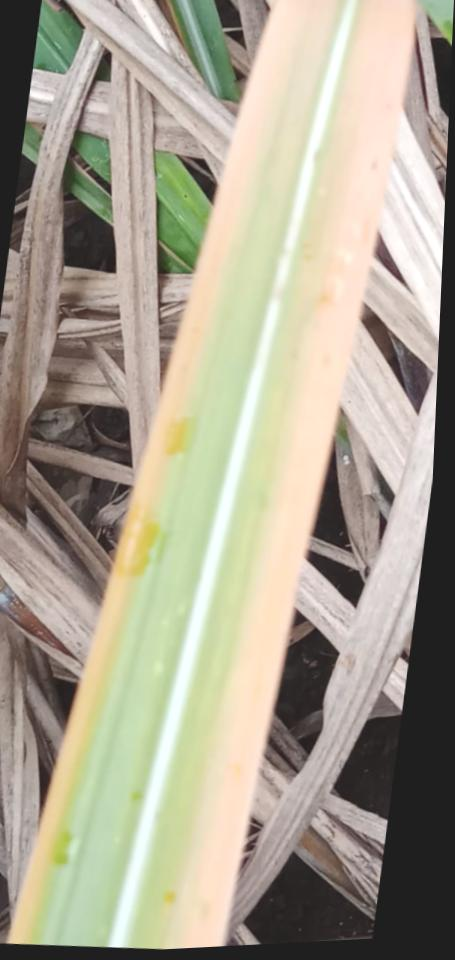Yellow: (6, 0, 346, 943), (161, 0, 413, 949)
